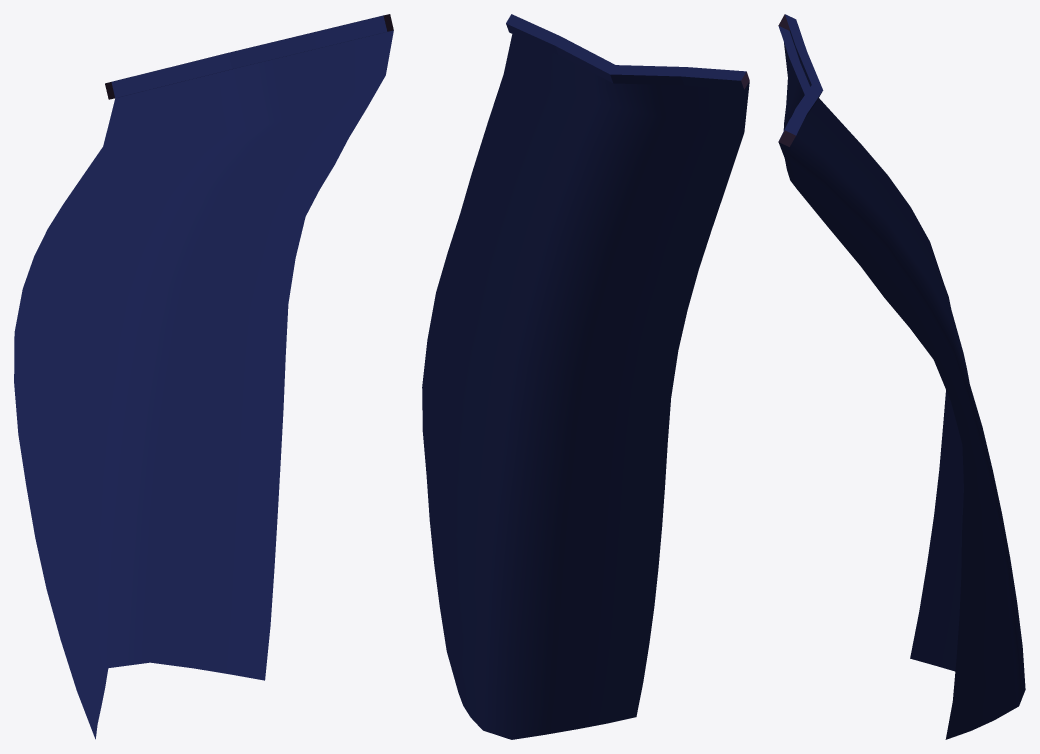
The model's file is legendary_pants_skirt_back.gltf.
3 renders of one model, left to right at view 1: azimuth 30°, elevation 25°; view 2: azimuth 150°, elevation 25°; view 3: azimuth 270°, elevation 25°, orthographic. The views are drawn at different scales.
Visible parts, largest first — view 1: skirt_back; view 2: skirt_back; view 3: skirt_back.
Boxes of the visible parts, bbox=[...] form: skirt_back: bbox=[14, 14, 393, 739]; skirt_back: bbox=[422, 14, 749, 739]; skirt_back: bbox=[778, 14, 1025, 739].
Size of the model in its own units: 0.5741 by 1.4 by 0.503.
